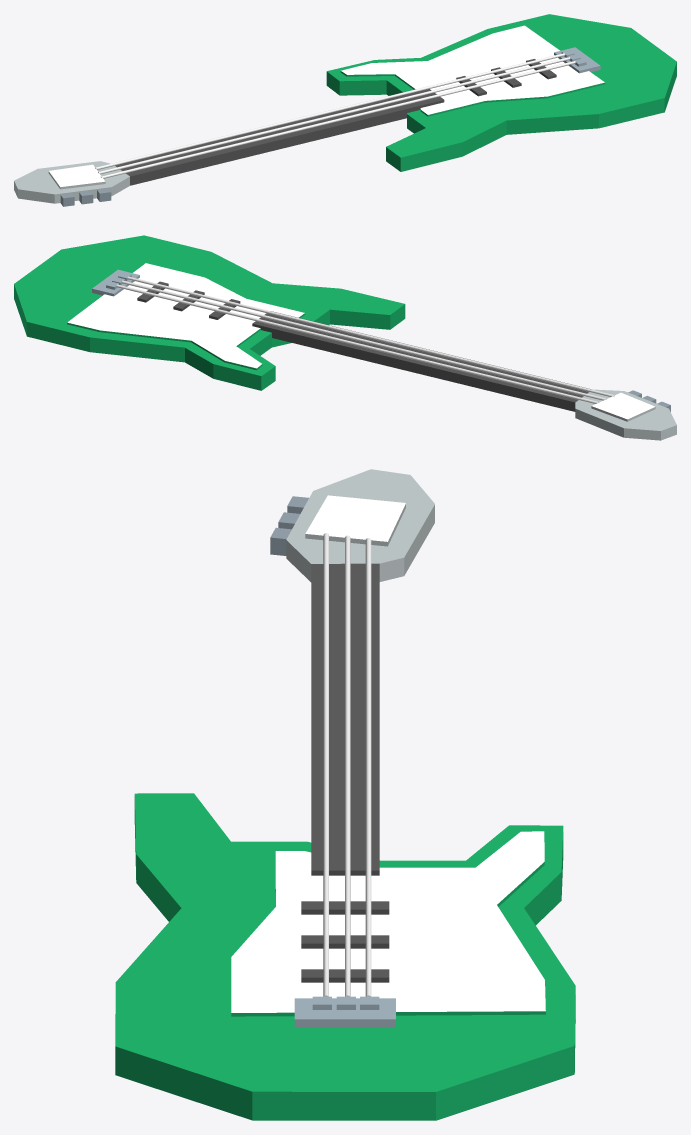
File: oLDGuitar.glb
3 renders of one model, top to bottom at view 1: azimuth 30°, elevation 25°; view 2: azimuth 150°, elevation 25°; view 3: azimuth 270°, elevation 25°, orthographic. The views are drawn at different scales.
Parts seen in each view (by area): view 1: Guitar; view 2: Guitar; view 3: Guitar.
Boxes of the visible parts, <box> form: Guitar: <box>14,14,676,206</box>; Guitar: <box>14,235,676,440</box>; Guitar: <box>115,469,575,1120</box>.
Size of the model in its own units: 4.84 by 0.1604 by 1.53.
